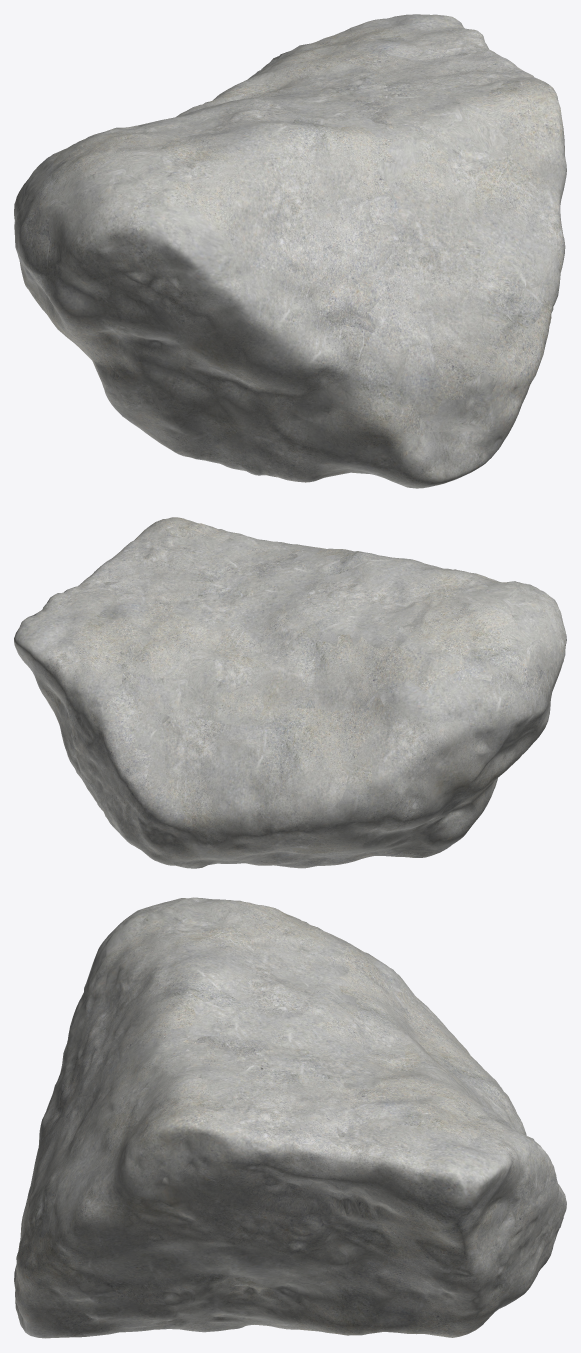
The picture shows the model from 3 angles, top to bottom: view 1: azimuth 30°, elevation 25°; view 2: azimuth 150°, elevation 25°; view 3: azimuth 270°, elevation 25°; orthographic projection. The views are drawn at different scales.
Visible parts, largest first — view 1: Model; view 2: Model; view 3: Model.
Boxes of the visible parts, x1,y1,x2,y2 form: Model: (14, 14, 566, 488); Model: (14, 517, 566, 868); Model: (14, 897, 566, 1338).
Bounding box in the file's own units: 1.58 × 0.9242 × 1.42.
Materials: 1 (1 with a texture image).
